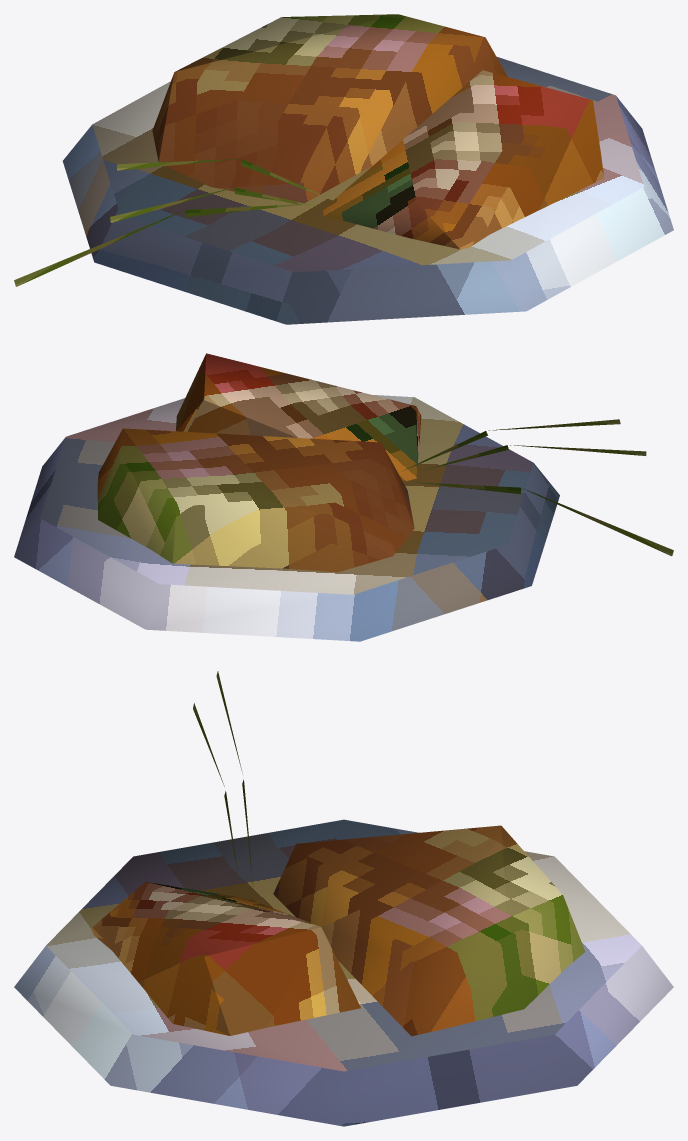
The model's file is edb_con_dish_casserole_full_l3.fbx.
The picture shows the model from 3 angles, top to bottom: view 1: azimuth 30°, elevation 25°; view 2: azimuth 150°, elevation 25°; view 3: azimuth 270°, elevation 25°; orthographic projection. The views are drawn at different scales.
Parts seen in each view (by area): view 1: mesh_node; view 2: mesh_node; view 3: mesh_node.
Part boxes in pixels (left/top/right/bottom): mesh_node: left=14, top=14, right=673, bottom=324; mesh_node: left=14, top=353, right=673, bottom=641; mesh_node: left=14, top=671, right=673, bottom=1126.
Bounding box in the file's own units: 0.4817 × 0.1045 × 0.3955.
